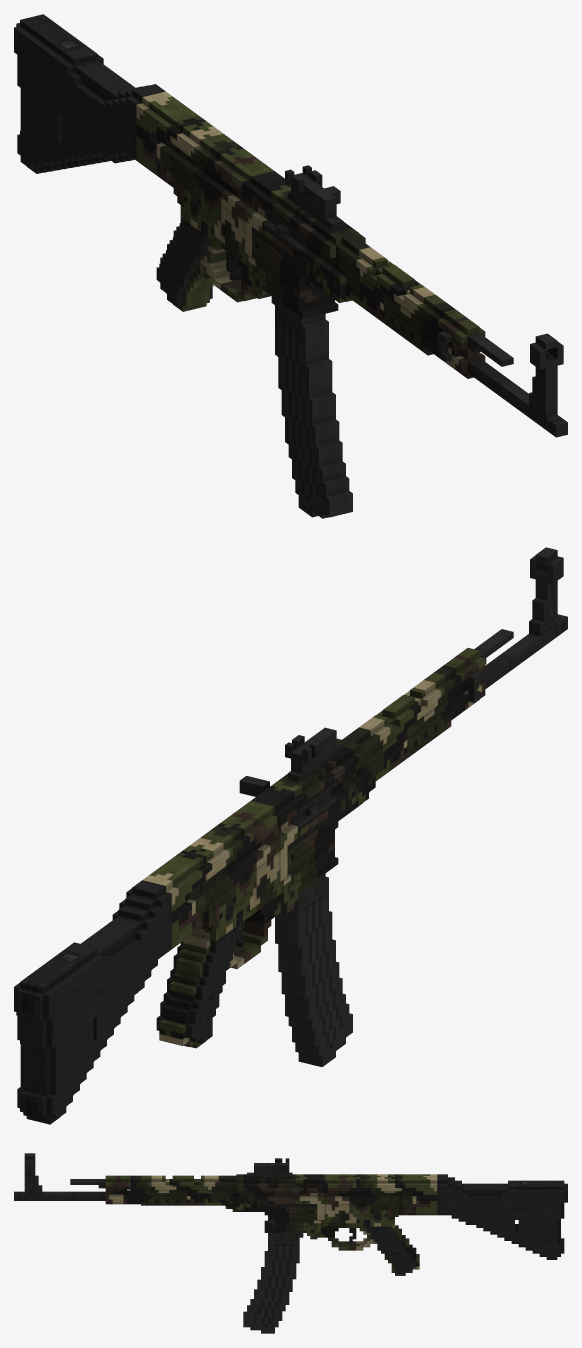
The model's file is RD_STG44_MILITARY1945.glb.
3 renders of one model, top to bottom at view 1: azimuth 30°, elevation 25°; view 2: azimuth 150°, elevation 25°; view 3: azimuth 270°, elevation 25°, orthographic. The views are drawn at different scales.
Visible parts, largest first — view 1: STG44, STG44_CLIP; view 2: STG44, STG44_CLIP; view 3: STG44, STG44_CLIP.
Part boxes in pixels (left/top/right/bottom): STG44: left=14, top=14, right=567, bottom=437; STG44_CLIP: left=271, top=296, right=352, bottom=518; STG44: left=14, top=547, right=567, bottom=1124; STG44_CLIP: left=275, top=873, right=352, bottom=1066; STG44: left=14, top=1153, right=567, bottom=1275; STG44_CLIP: left=243, top=1233, right=303, bottom=1333.
Bounding box in the file's own units: 0.1083 × 0.5413 × 1.55.
1 material, 1 textured.
